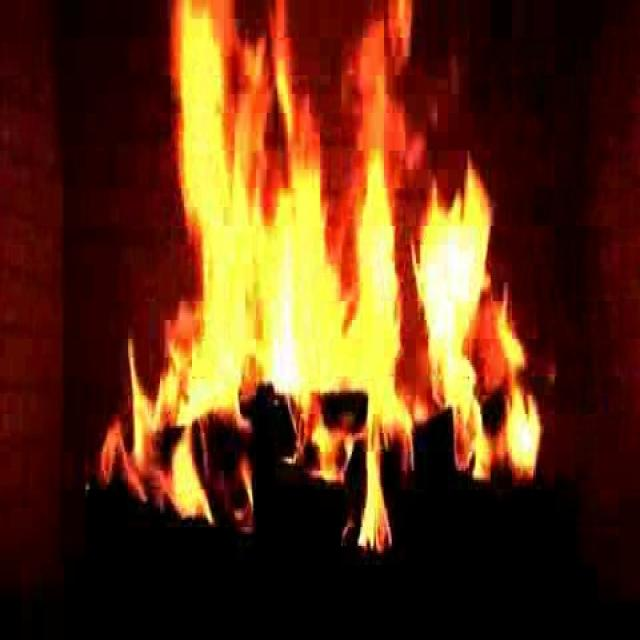fire: (161, 22, 515, 504)
